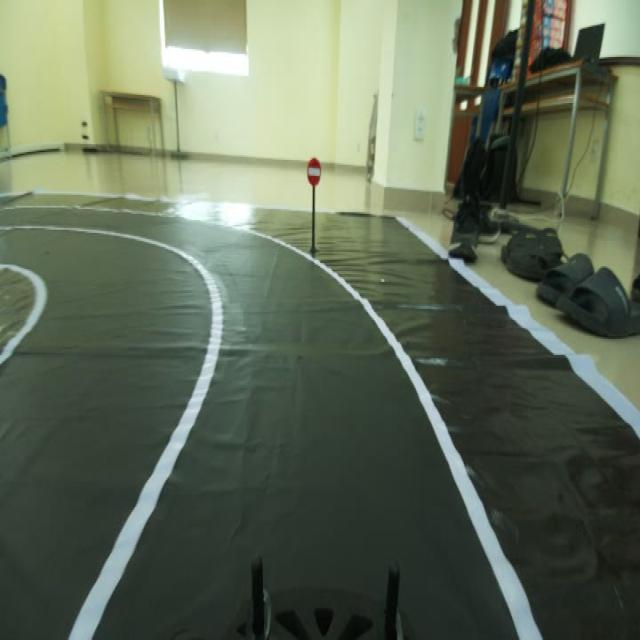no_entry: (300, 146, 328, 195)
